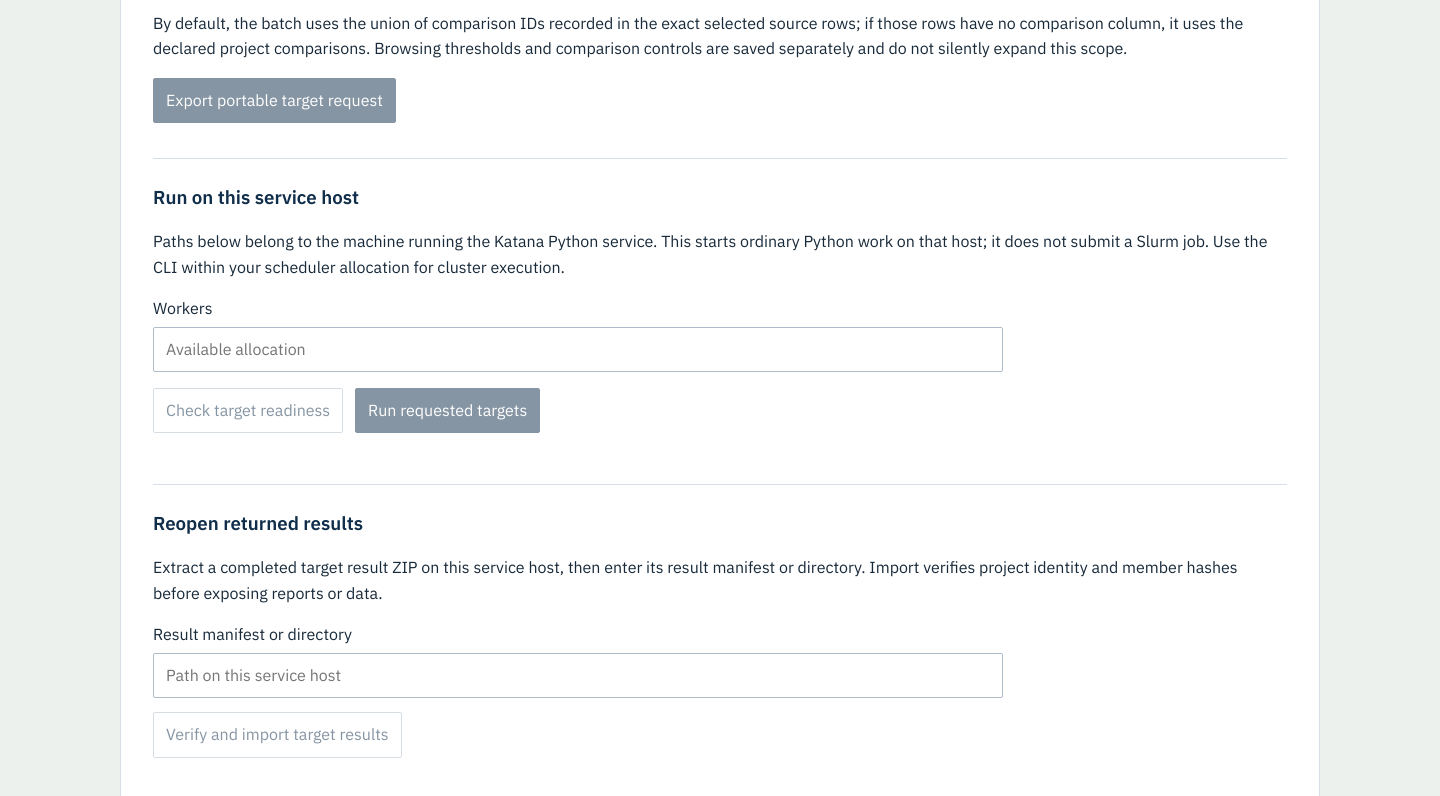
it: does not label a tampered imported result as complete
The image size is (1440, 796).
(page scrolled)
Type "/changed/result-manifest.json" into the field labelled "Result manifest or directory" at (578, 675), box [153,653,1003,698]
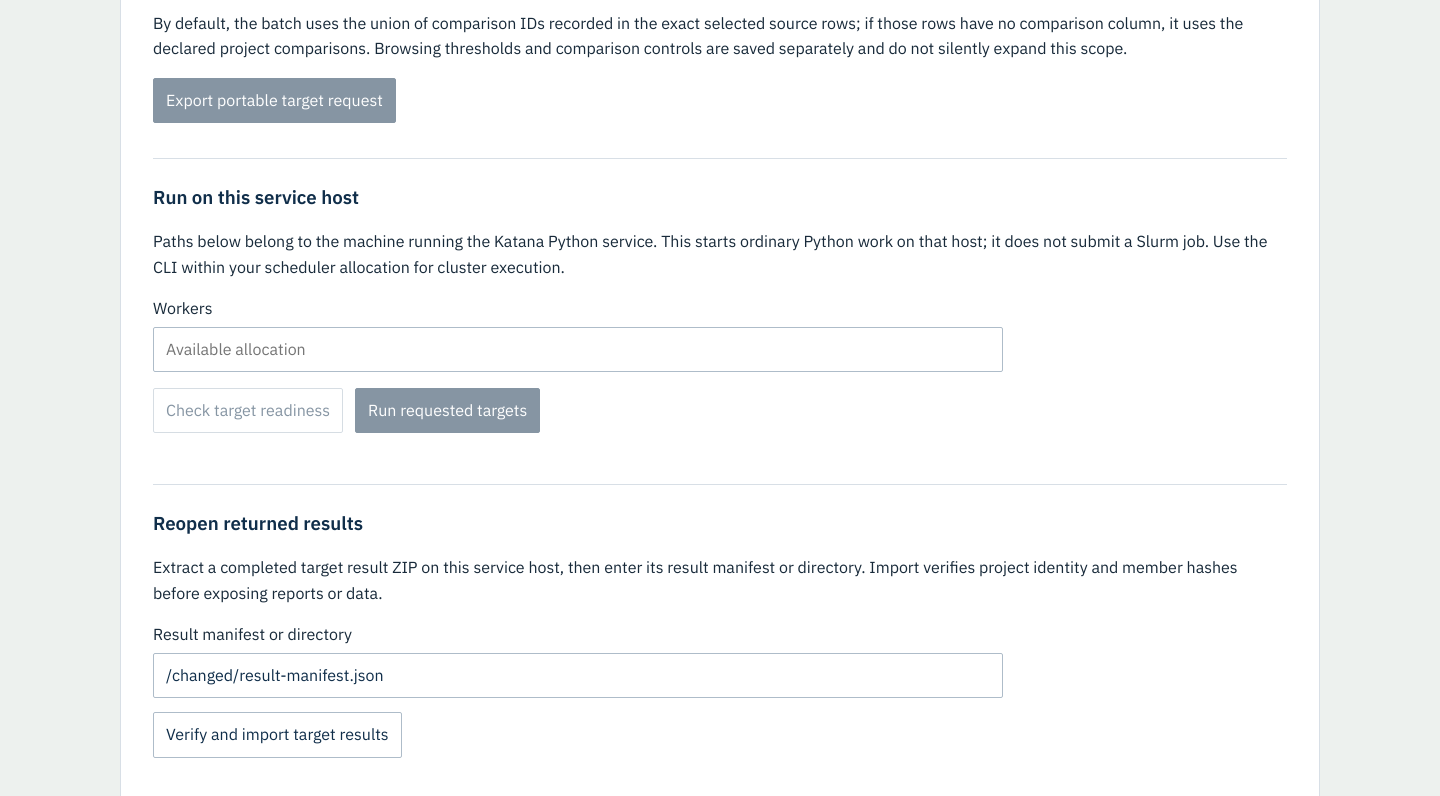
Click the button "Verify and import target results" at (277, 735), box [153,712,402,758]
(page scrolled)
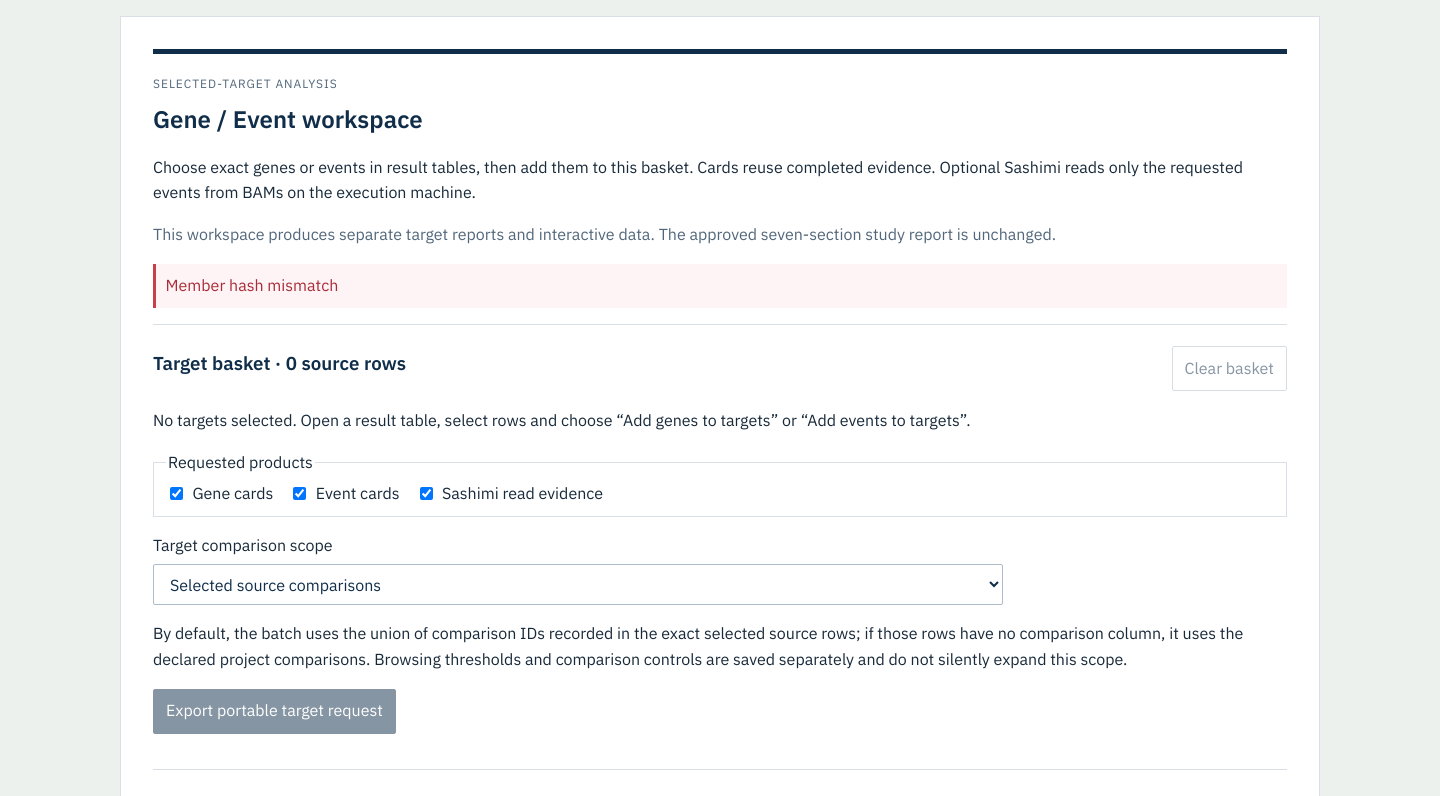
Check: the message reads "Member hash mismatch", box [166,275,338,295]
